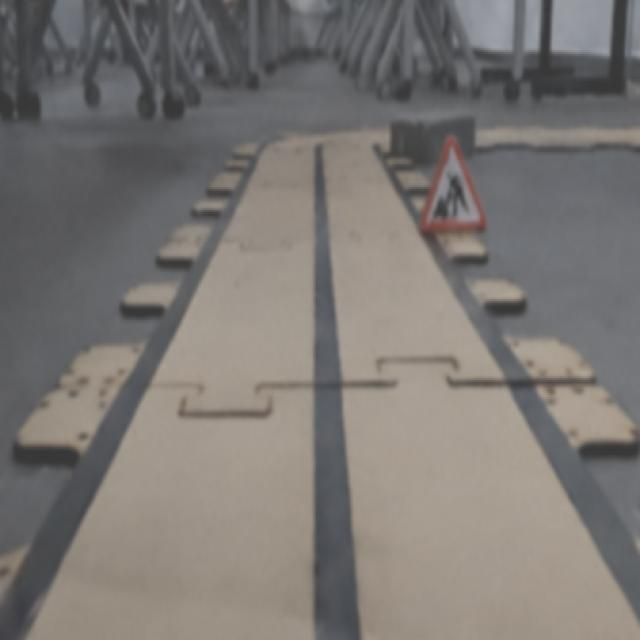WORKERS: (419, 137, 484, 231)
